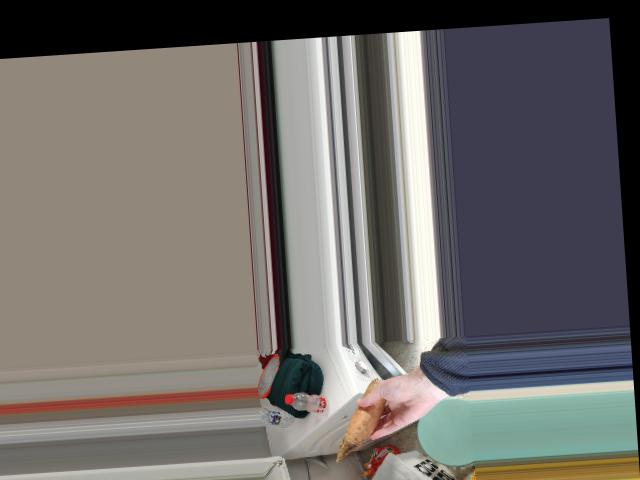sweet_potato: (345, 387, 384, 440)
